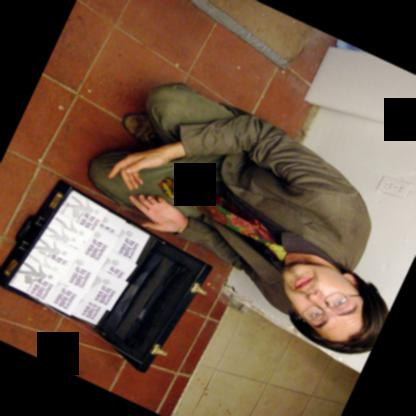suitcase: (0, 179, 212, 374)
